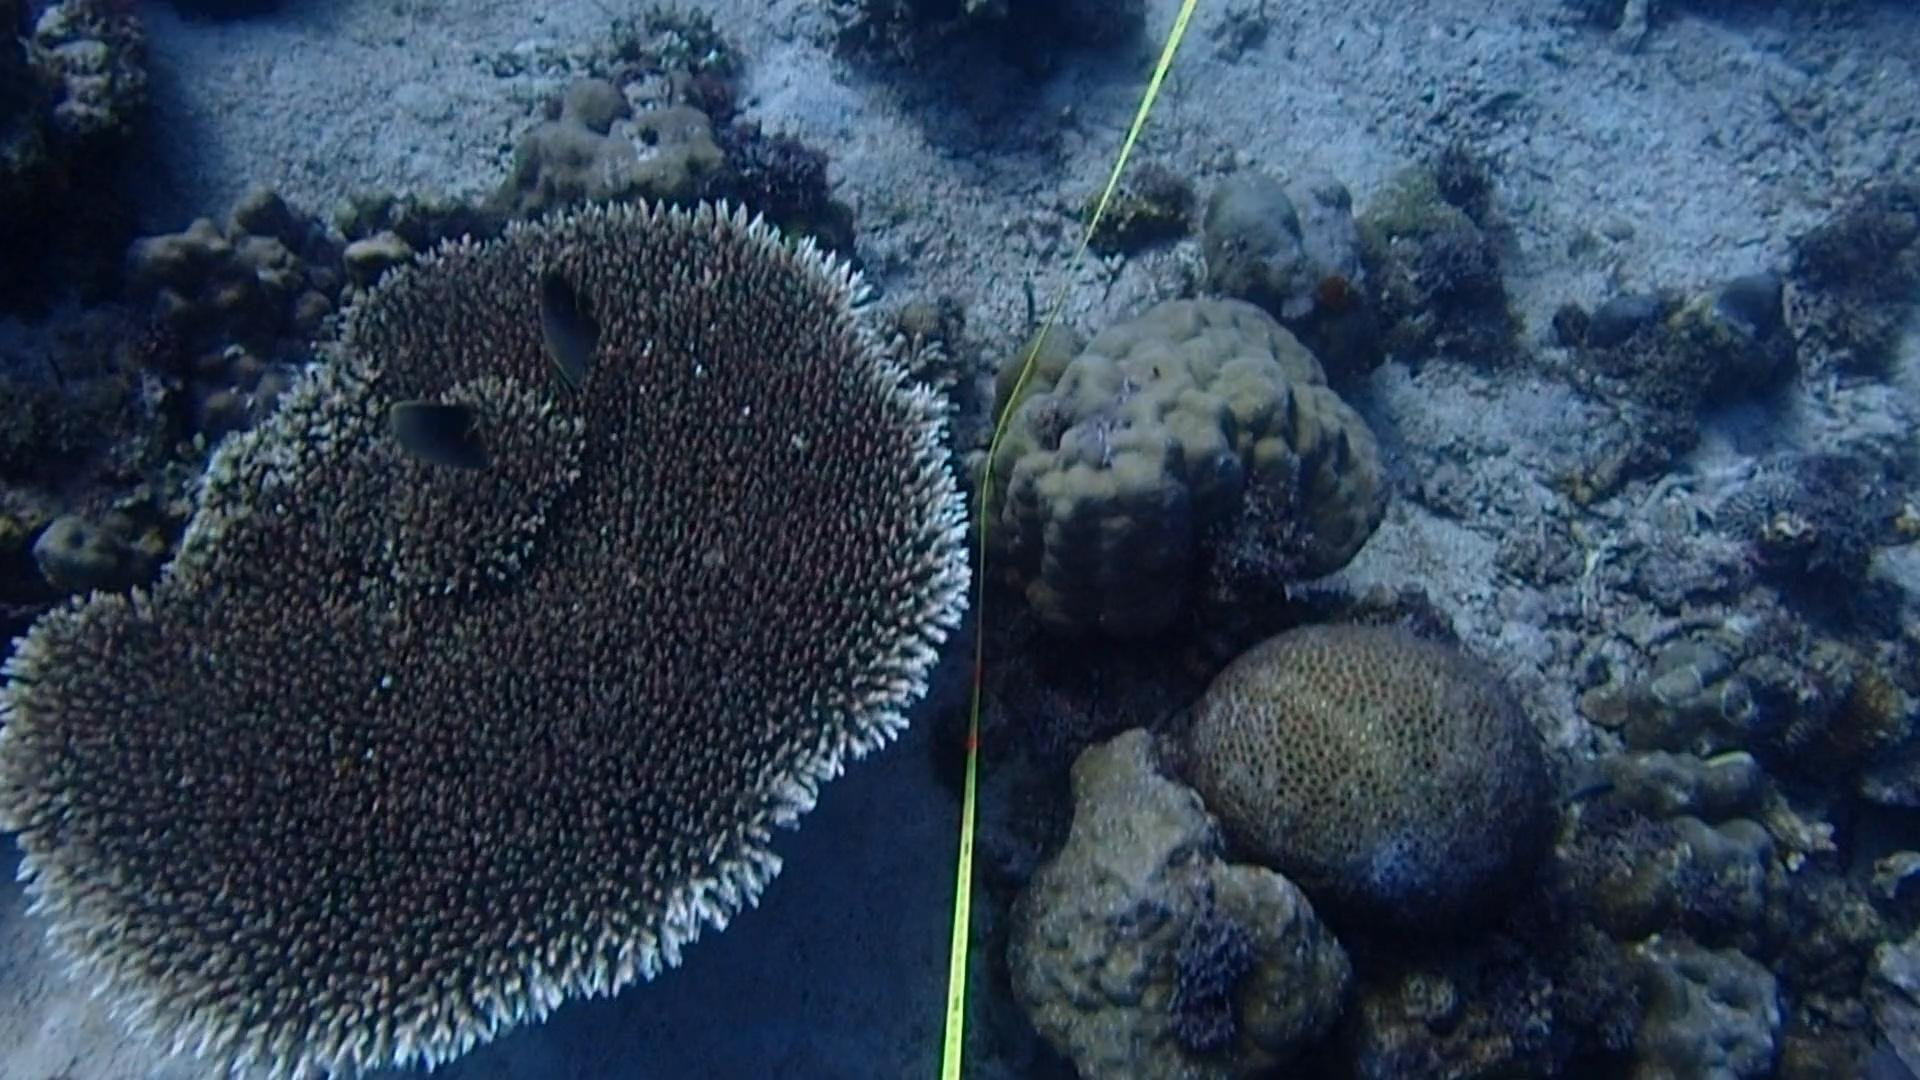Dark Blue Dory: (373, 388, 514, 479), (518, 265, 616, 392)
Light Fish: (1553, 769, 1625, 828)
